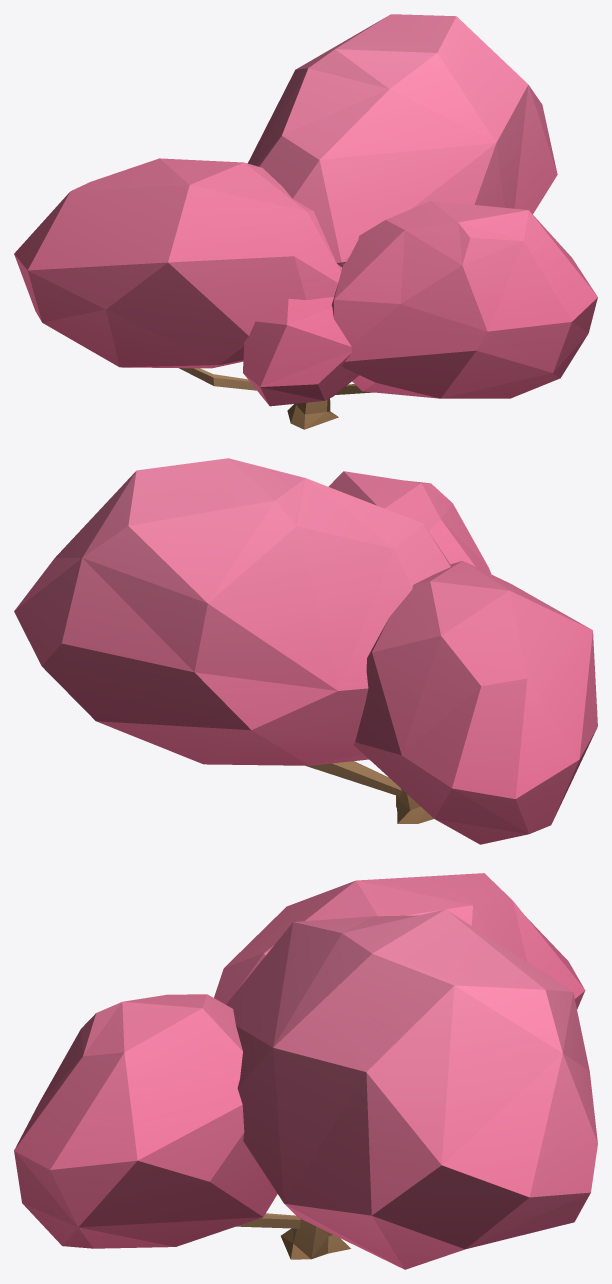
File: bush_cluster_pink.fbx
3 renders of one model, top to bottom at view 1: azimuth 30°, elevation 25°; view 2: azimuth 150°, elevation 25°; view 3: azimuth 270°, elevation 25°, orthographic. The views are drawn at different scales.
Parts seen in each view (by area): view 1: bush_cluster_pink; view 2: bush_cluster_pink; view 3: bush_cluster_pink.
Part boxes in pixels (<box>): bush_cluster_pink: <box>14,14,597,429</box>; bush_cluster_pink: <box>14,458,597,844</box>; bush_cluster_pink: <box>14,873,597,1269</box>.
Bounding box in the file's own units: 4.35 × 2.55 × 3.5.
Materials: 1 (1 with a texture image).
